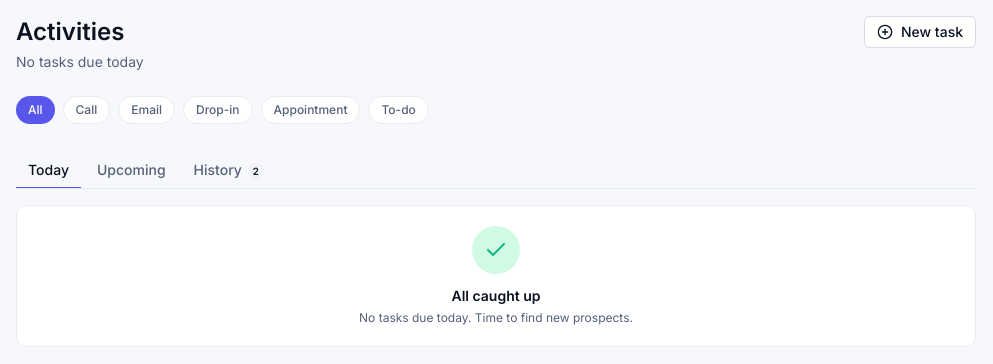
Test: ActivitiesPage / shared type filter (above tabs) › persists the selected filter when switching to the History tab
The image size is (993, 364).
What coordinates should you click on to do the following:
click the button "Email"
I would click on:
 (147, 110)
Its box is [118,96,175,124].
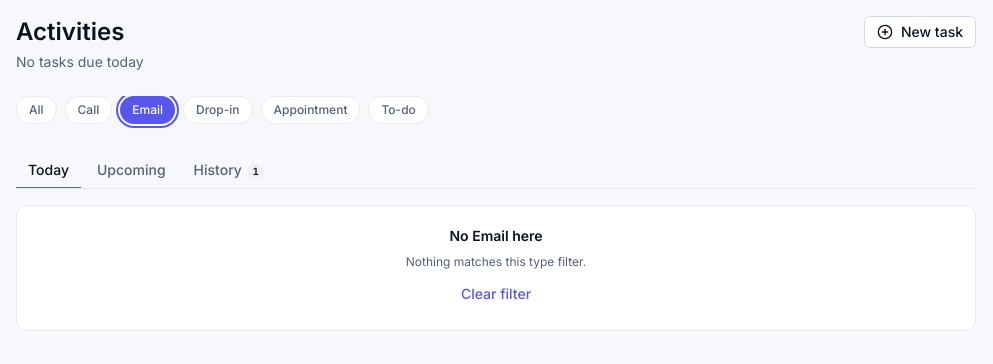
What coordinates should you click on to do the following:
click the tab "History 1"
I would click on:
 (229, 170)
Its box is [182,152,276,188].
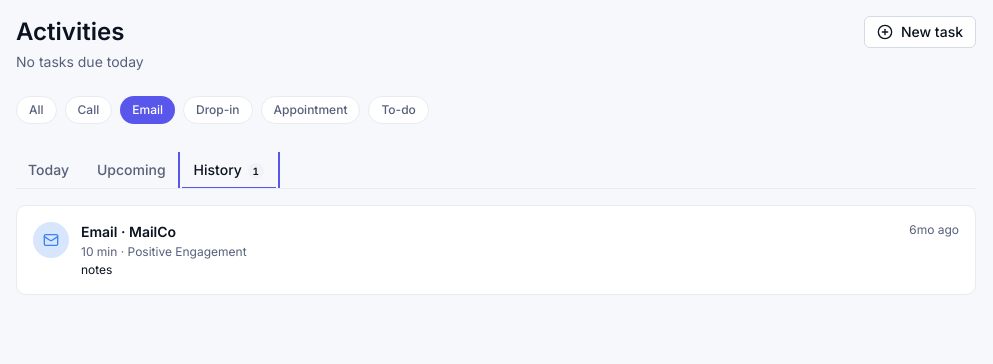
expect the text "Email · MailCo" is shown: met, box [81,223,176,240]
